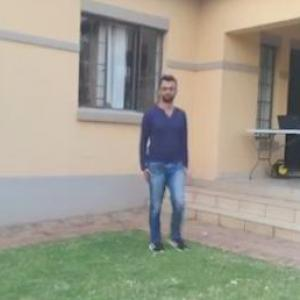follow: (126, 85, 179, 244)
